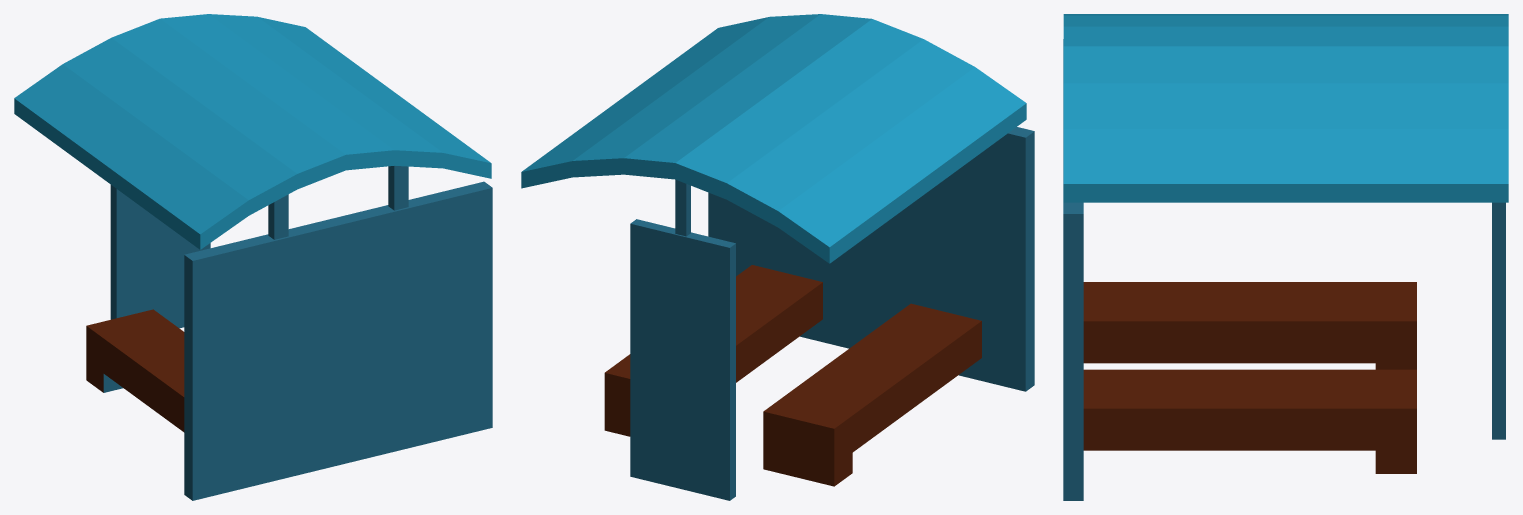
The model's file is busstop.glb.
3 views of the same model, side by side, from view 1: azimuth 30°, elevation 25°; view 2: azimuth 150°, elevation 25°; view 3: azimuth 270°, elevation 25° (orthographic). The views are drawn at different scales.
Parts seen in each view (by area): view 1: busstop; view 2: busstop; view 3: busstop.
Part boxes in pixels (x1=…): busstop: x1=14, y1=14, x2=492, y2=500; busstop: x1=521, y1=14, x2=1034, y2=500; busstop: x1=1063, y1=14, x2=1508, y2=500.
Bounding box in the file's own units: 3.97 × 3.9 × 4.27.
1 material, 1 textured.
